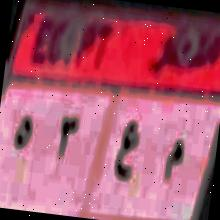3: (54, 110, 80, 168)
5: (8, 102, 38, 161)
ain: (110, 116, 141, 188)
meem: (160, 128, 186, 194)
